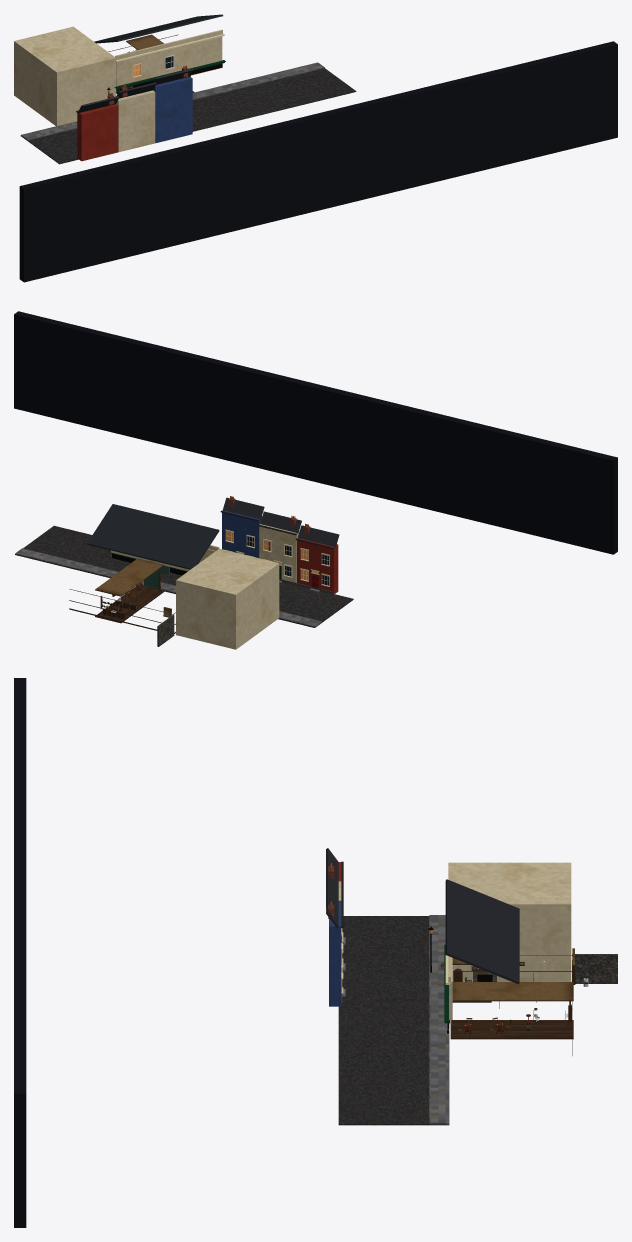
The model's file is world_02.glb.
3 renders of one model, top to bottom at view 1: azimuth 30°, elevation 25°; view 2: azimuth 150°, elevation 25°; view 3: azimuth 270°, elevation 25°, orthographic. The views are drawn at different scales.
Visible parts, largest first — view 1: c096, c088, c097, c095, c080, c090, c089, c094, c093; view 2: c096, c088, c094, c097, c095, c090, c089, c080, c093; view 3: c097, c088, c094, c096, c095, c093, c080, c083.
Part boxes in pixels (x1,y1,x2,y2): c096: (19,41,617,282); c088: (14,26,116,126); c097: (20,68,356,164); c095: (21,29,324,140); c080: (151,65,193,142); c090: (76,93,119,161); c089: (115,82,156,152); c094: (94,14,223,43); c093: (108,34,178,52); c096: (14,311,617,554); c088: (176,548,279,649); c094: (87,504,219,612); c097: (15,525,353,627); c095: (15,545,321,627); c090: (295,523,339,594); c089: (258,511,301,585); c080: (220,496,264,557); c093: (69,579,163,630); c097: (338,916,449,1125); c088: (448,862,571,981); c094: (445,879,532,1039); c096: (14,678,26,1227); c095: (429,915,491,1124); c093: (532,961,573,1055); c080: (326,887,345,1006); c083: (575,954,617,983).
Size of the model in its own units: 80 by 12.12 by 49.1.
19 materials, 19 textured.
